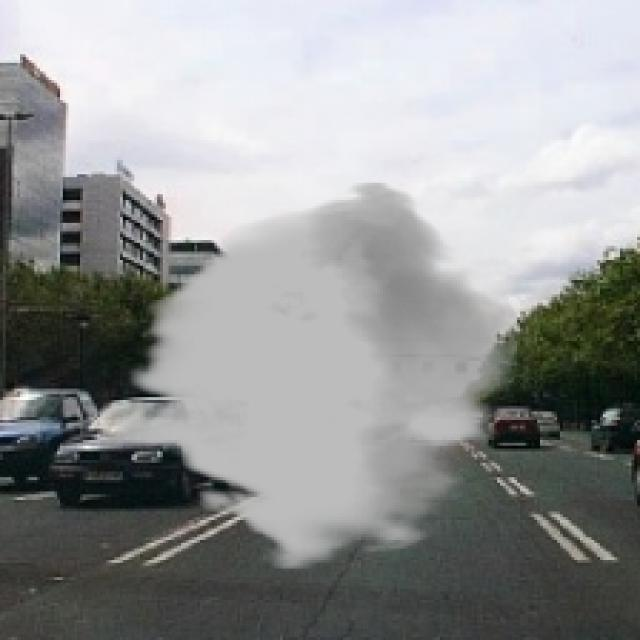smoke: (114, 180, 517, 571)
